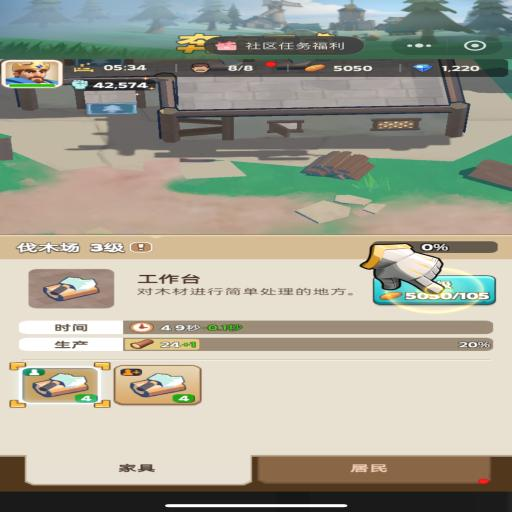newcomer_hand: (360, 242, 442, 294)
